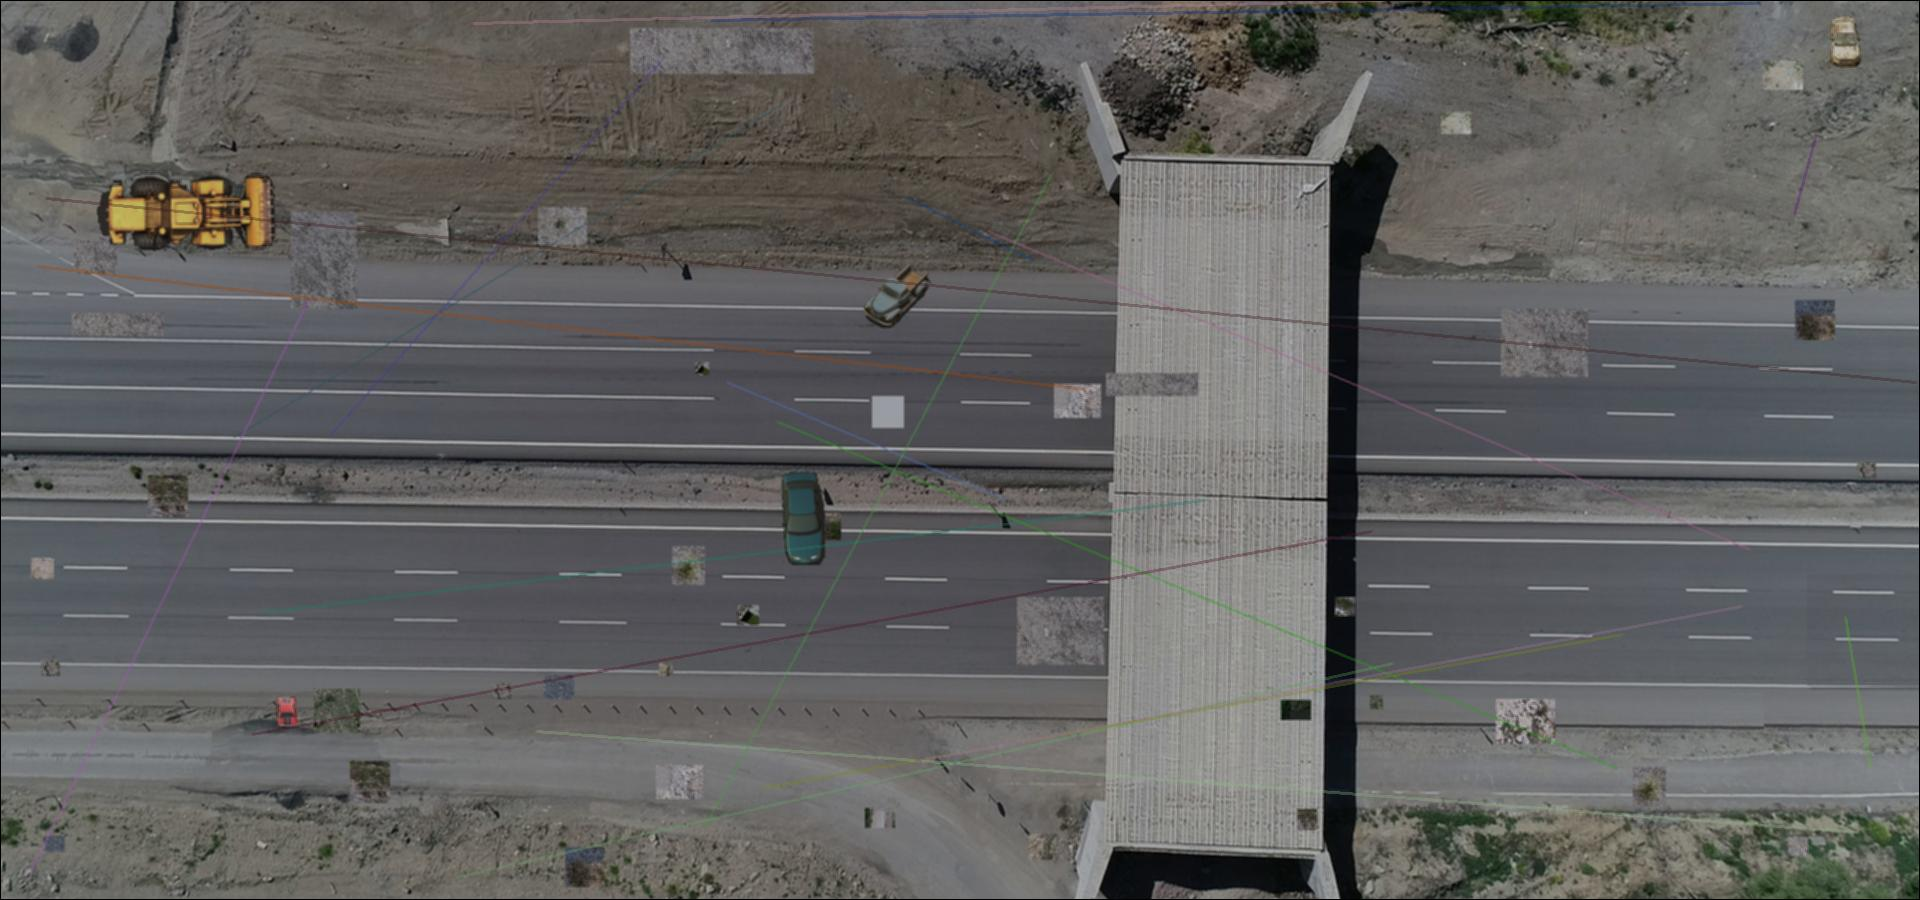arac: (96, 169, 278, 253), (864, 264, 932, 328), (781, 471, 825, 564), (1829, 16, 1862, 70), (276, 696, 298, 729)
